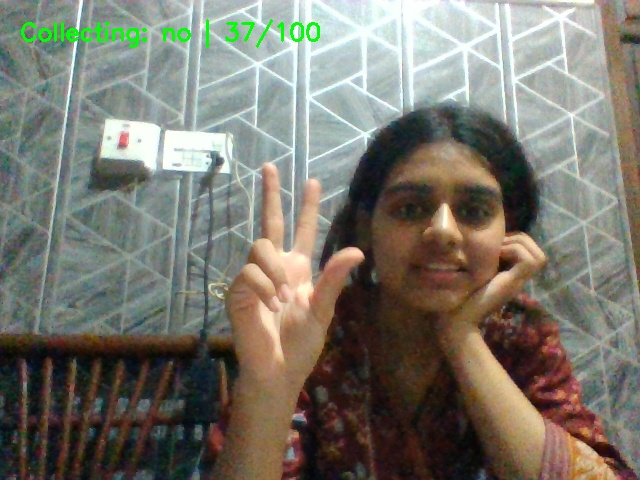no: (210, 154, 384, 426)
